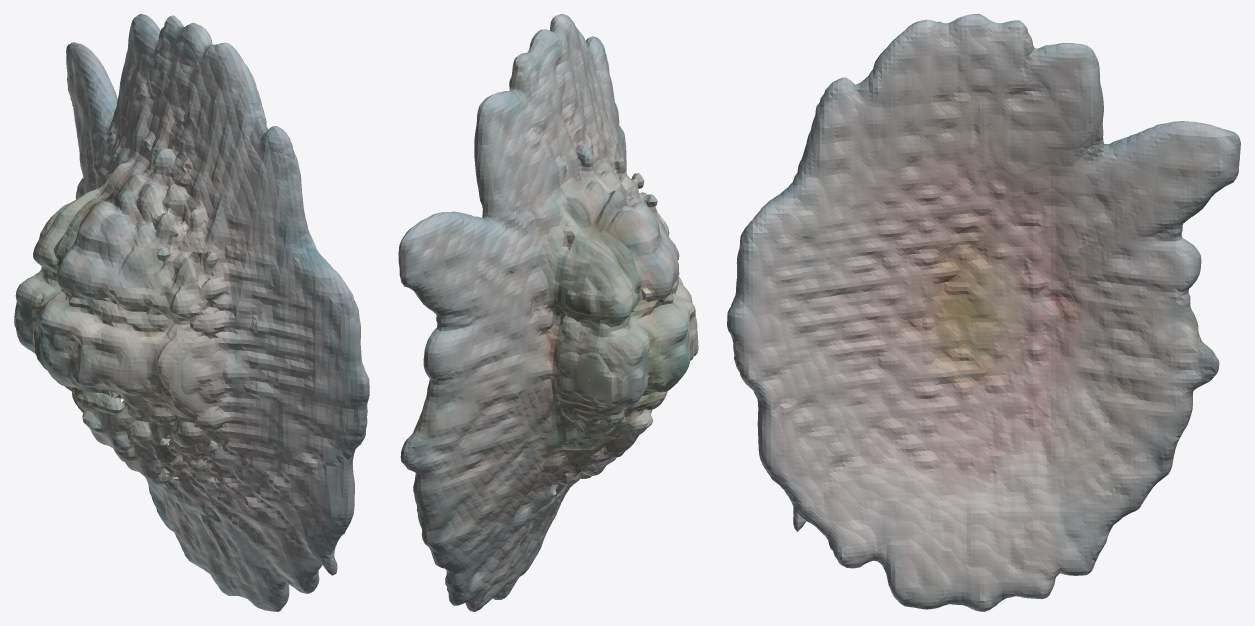
The model's file is flower.glb.
3 views of the same model, side by side, from view 1: azimuth 30°, elevation 25°; view 2: azimuth 150°, elevation 25°; view 3: azimuth 270°, elevation 25° (orthographic).
Visible parts, largest first — view 1: world; view 2: world; view 3: world.
Boxes of the visible parts, x1,y1,x2,y2 form: world: (14, 14, 369, 611); world: (398, 14, 698, 611); world: (727, 14, 1240, 611).
Bounding box in the file's own units: 0.3668 × 0.9789 × 0.7883.
